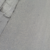zebra: (2, 1, 50, 45)
